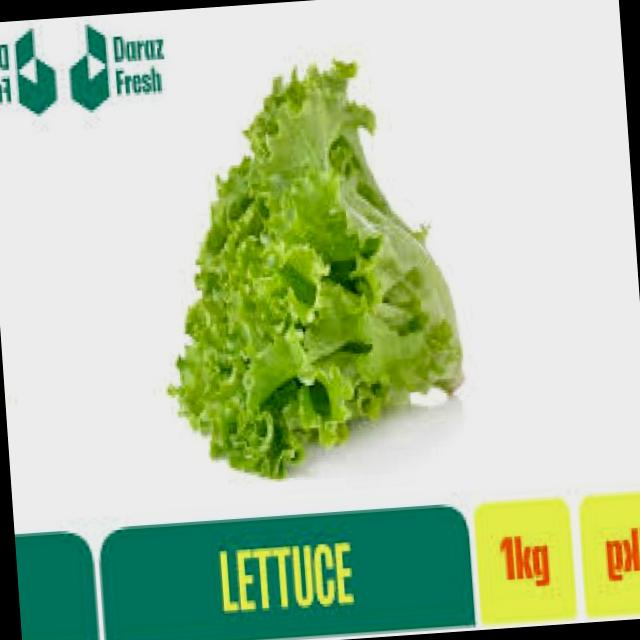healthy: (143, 46, 476, 490)
